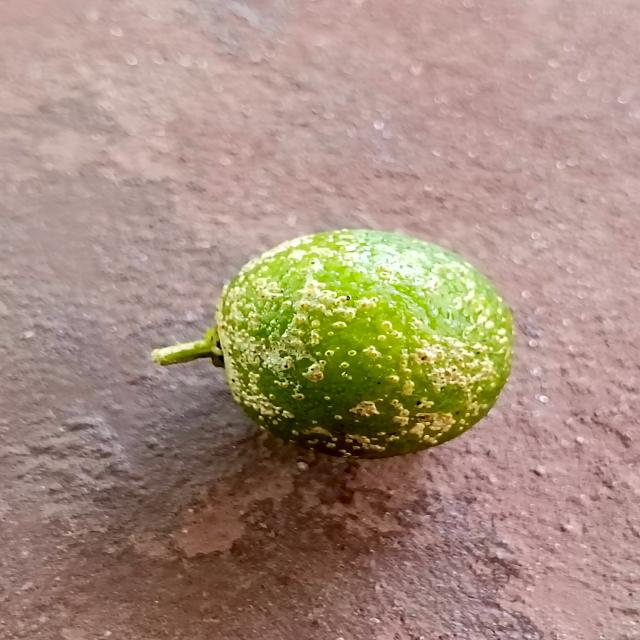scab: (158, 207, 523, 467)
